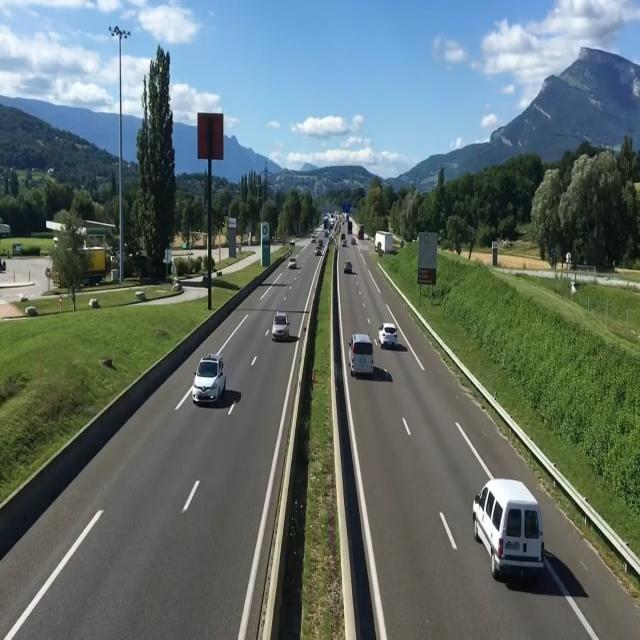Car: (190, 353, 228, 407), (346, 333, 376, 378), (379, 317, 401, 349), (270, 314, 292, 342)
Van: (472, 476, 545, 576)
